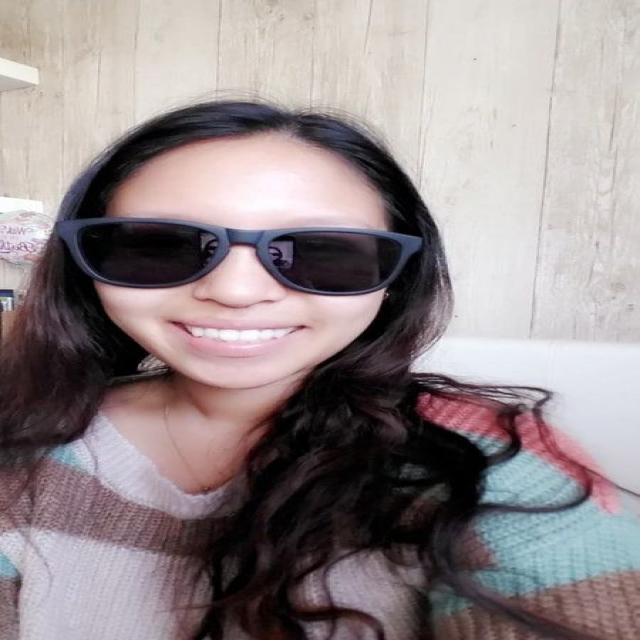2_gafas: (53, 215, 425, 297)
